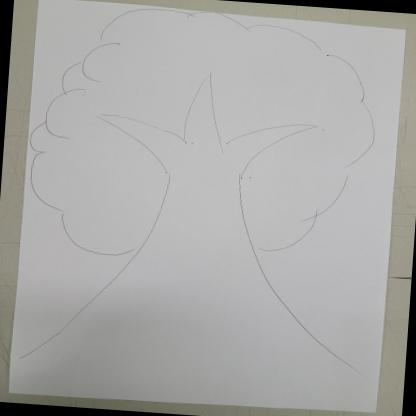branch_sharp: (91, 66, 321, 184)
crown_cloud: (23, 0, 382, 273)
trunk_straight: (99, 178, 293, 304)
